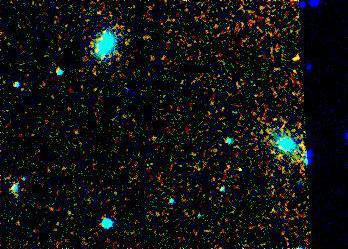star: (280, 43, 310, 73)
